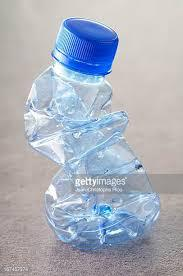Plastic: (18, 7, 164, 249)
